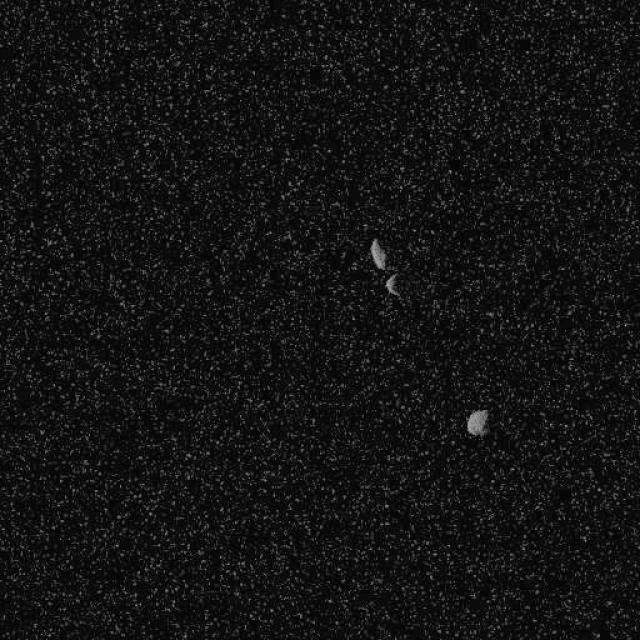D2: (465, 408, 489, 437), (368, 236, 388, 270), (384, 272, 401, 298)
